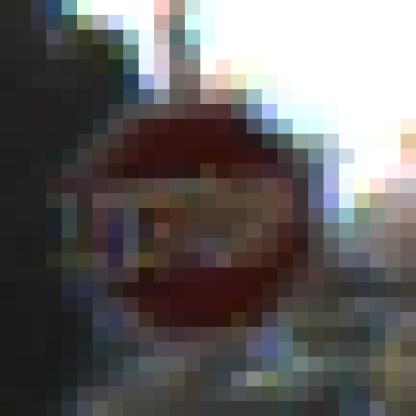stop: (62, 93, 327, 348)
